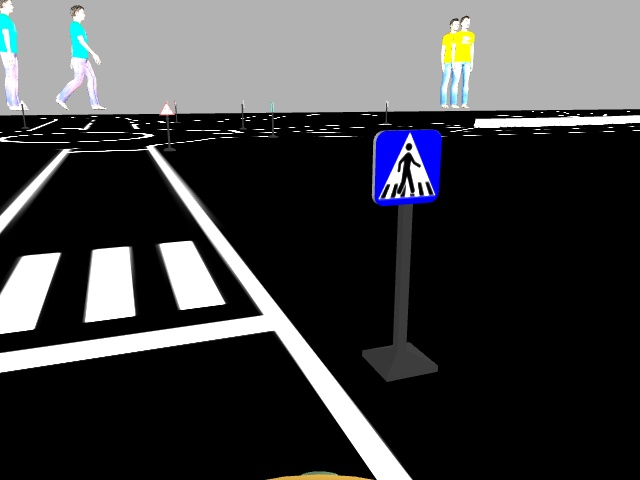Crosswalk: (368, 129, 444, 206)
